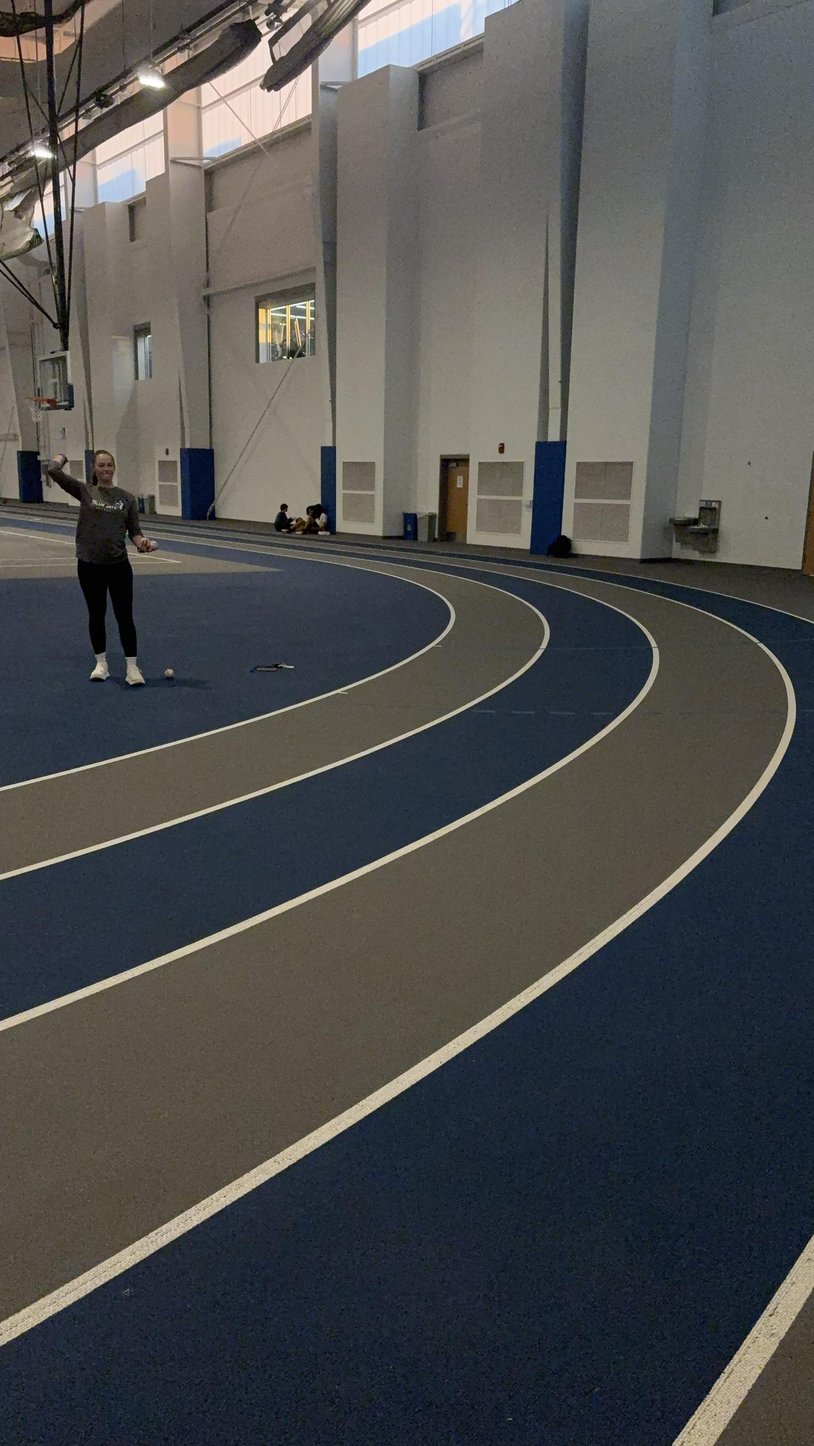Baseball: (163, 667, 176, 681)
